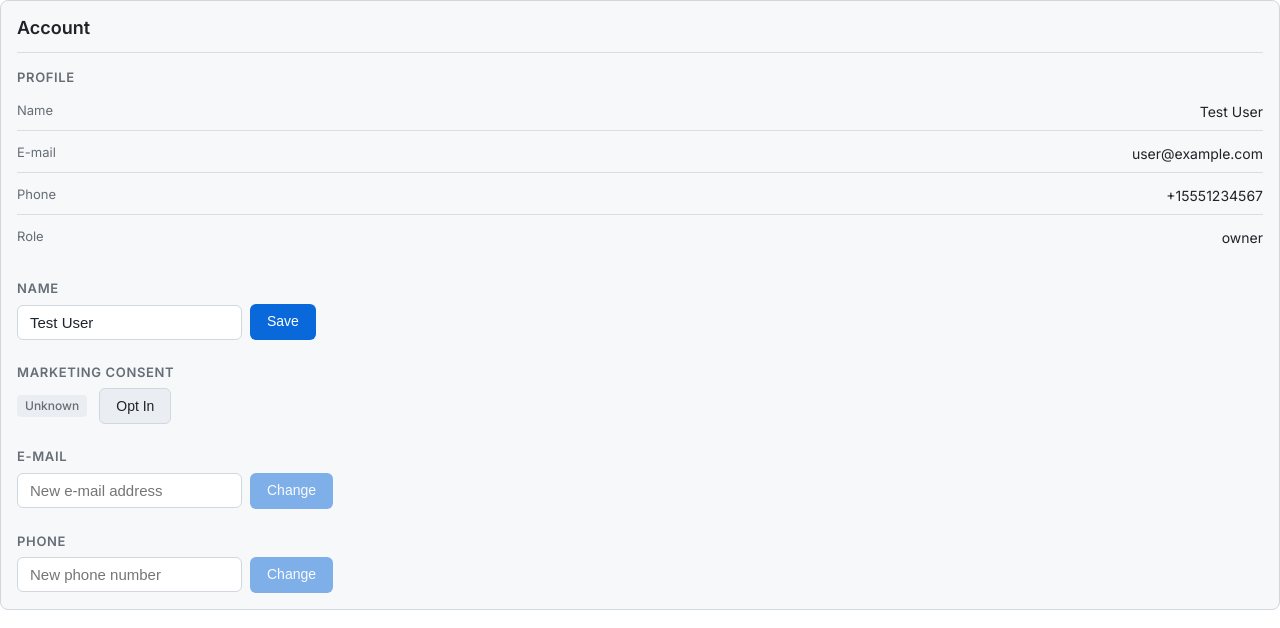
Test case: AccountCard › with experimental writes enabled › requesting an e-mail change shows the identity detail and the code-entry step on success
In the field with placeholder "New e-mail address": [130, 490] box [17, 473, 242, 508], type "new@example.com"
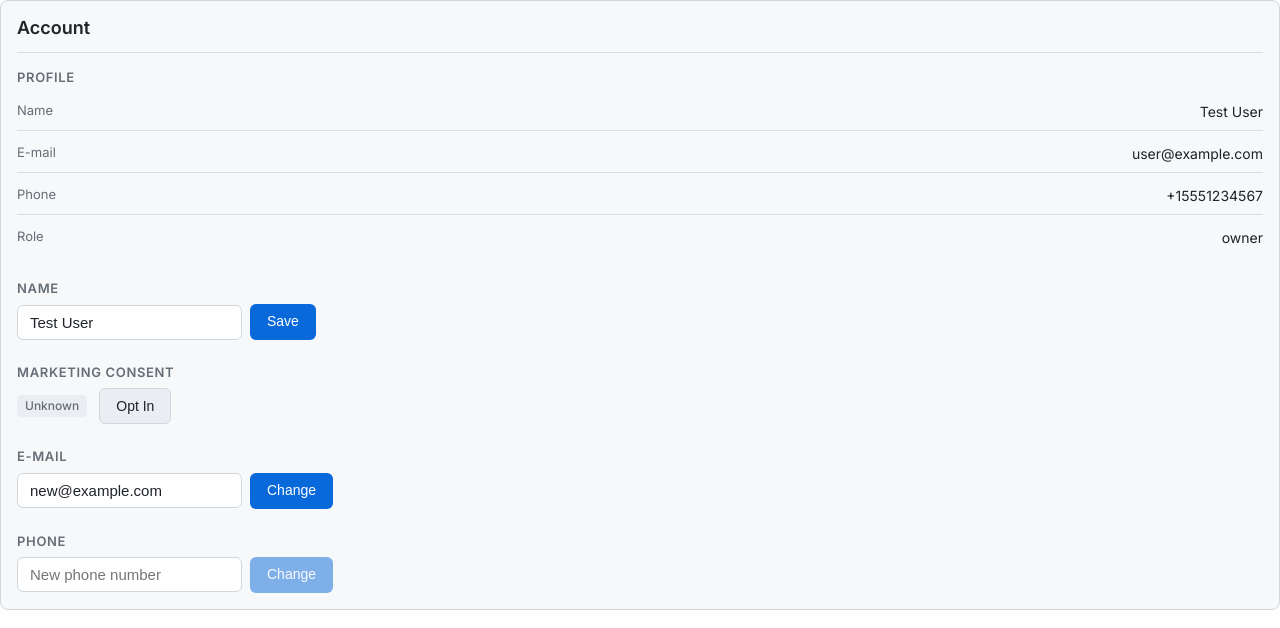
Click the button with aria-label "Change e-mail": [292, 490] box [250, 472, 333, 508]
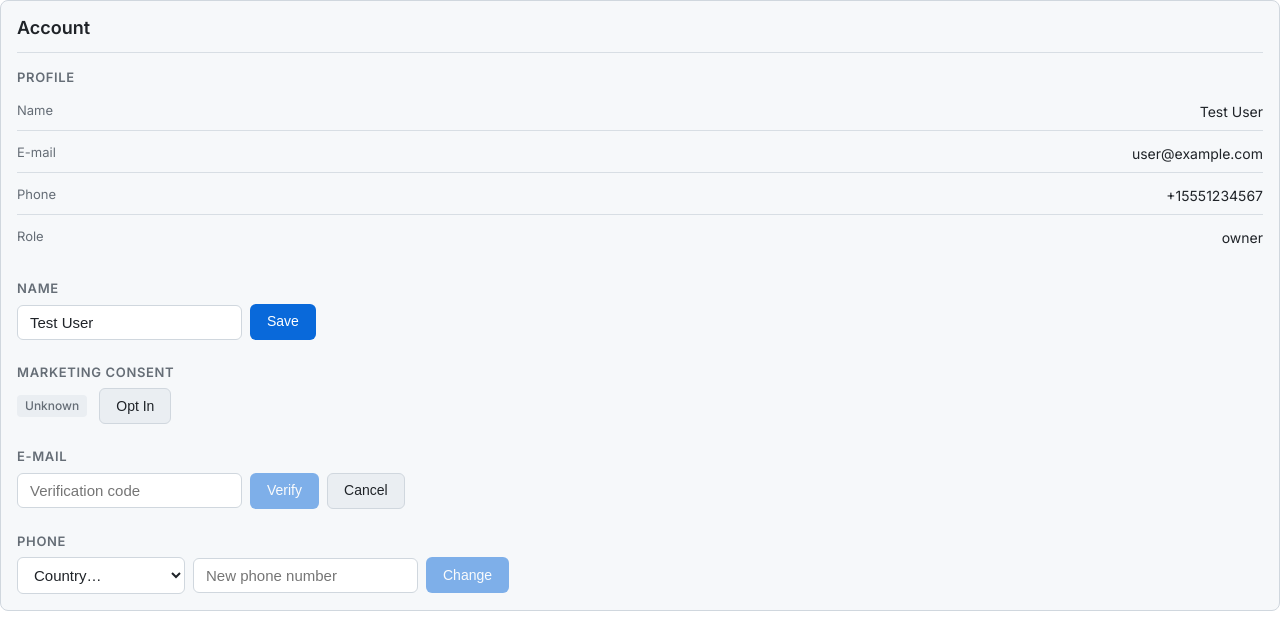
Check: the field with placeholder "Verification code" is shown, box [17, 473, 242, 508]
